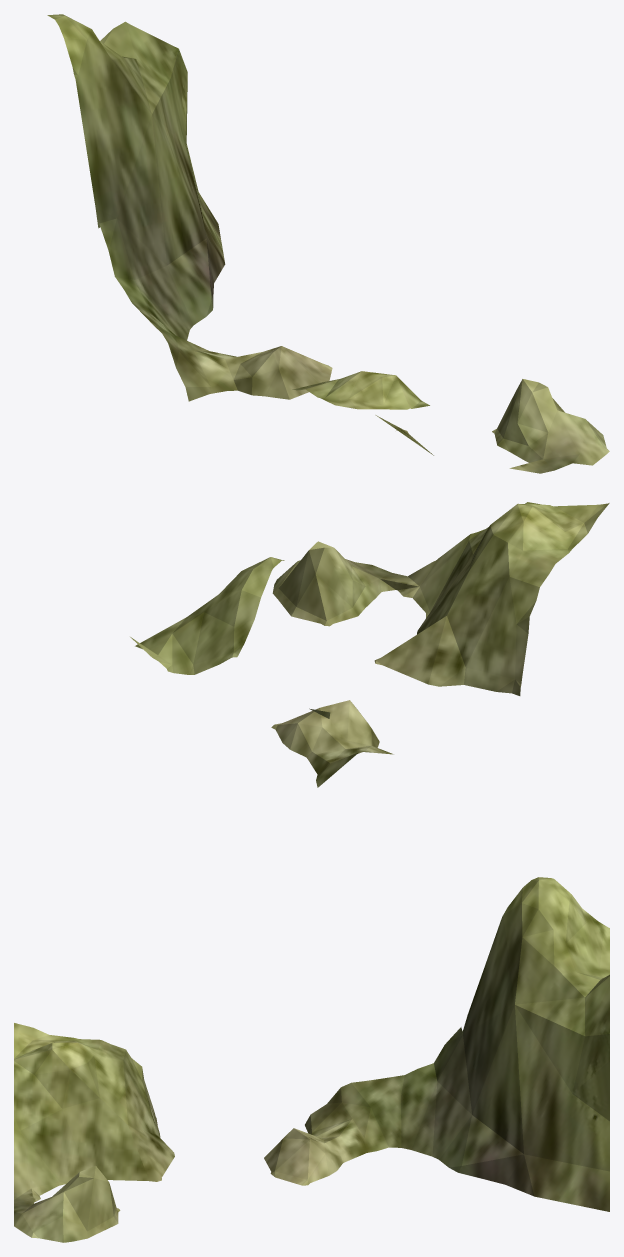
The picture shows the model from 3 angles, top to bottom: view 1: azimuth 30°, elevation 25°; view 2: azimuth 150°, elevation 25°; view 3: azimuth 270°, elevation 25°; orthographic projection. The views are drawn at different scales.
Size of the model in its own units: 1.38 by 1.36 by 2.95.
Materials: 1 (1 with a texture image).
